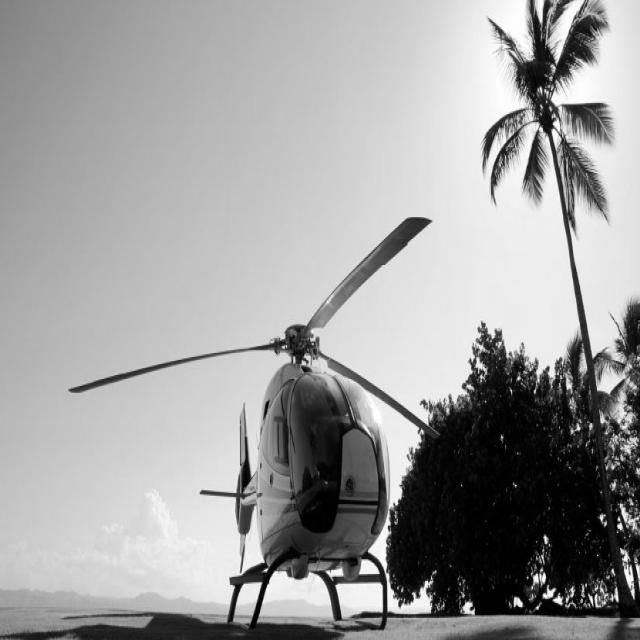helicopter: (61, 195, 486, 629)
